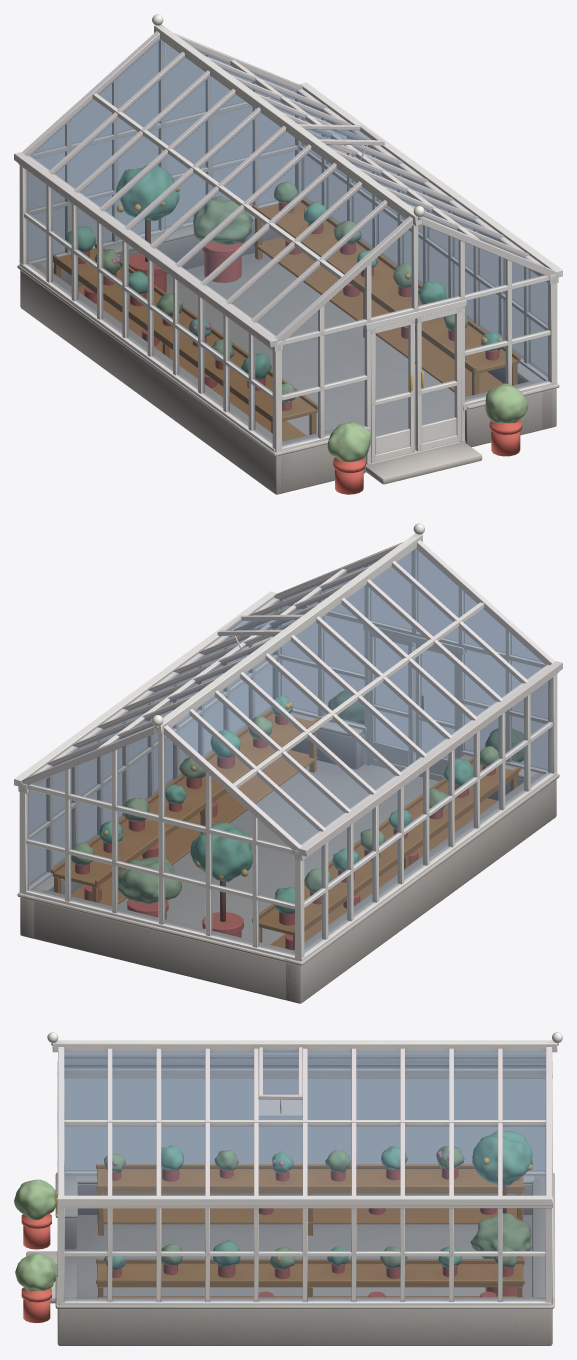
Rendered from greenhouse.glb.
3 views of the same model, one above another, from view 1: azimuth 30°, elevation 25°; view 2: azimuth 150°, elevation 25°; view 3: azimuth 270°, elevation 25° (orthographic). The views are drawn at different scales.
Parts seen in each view (by area): view 1: greenhouse_trim, greenhouse_glass, greenhouse_body; view 2: greenhouse_trim, greenhouse_glass, greenhouse_body; view 3: greenhouse_glass, greenhouse_trim, greenhouse_body.
Boxes of the visible parts, box(x1,y1,x2,y2) form: greenhouse_trim: box(14, 14, 562, 494); greenhouse_glass: box(26, 39, 549, 446); greenhouse_body: box(17, 213, 559, 494); greenhouse_trim: box(14, 523, 562, 961); greenhouse_glass: box(27, 548, 550, 955); greenhouse_body: box(17, 712, 559, 1003); greenhouse_glass: box(64, 1050, 545, 1300); greenhouse_trim: box(14, 1032, 562, 1322); greenhouse_body: box(26, 1172, 554, 1345).
Size of the model in its own units: 4.68 by 3.92 by 7.88.
3 materials, 2 textured.
